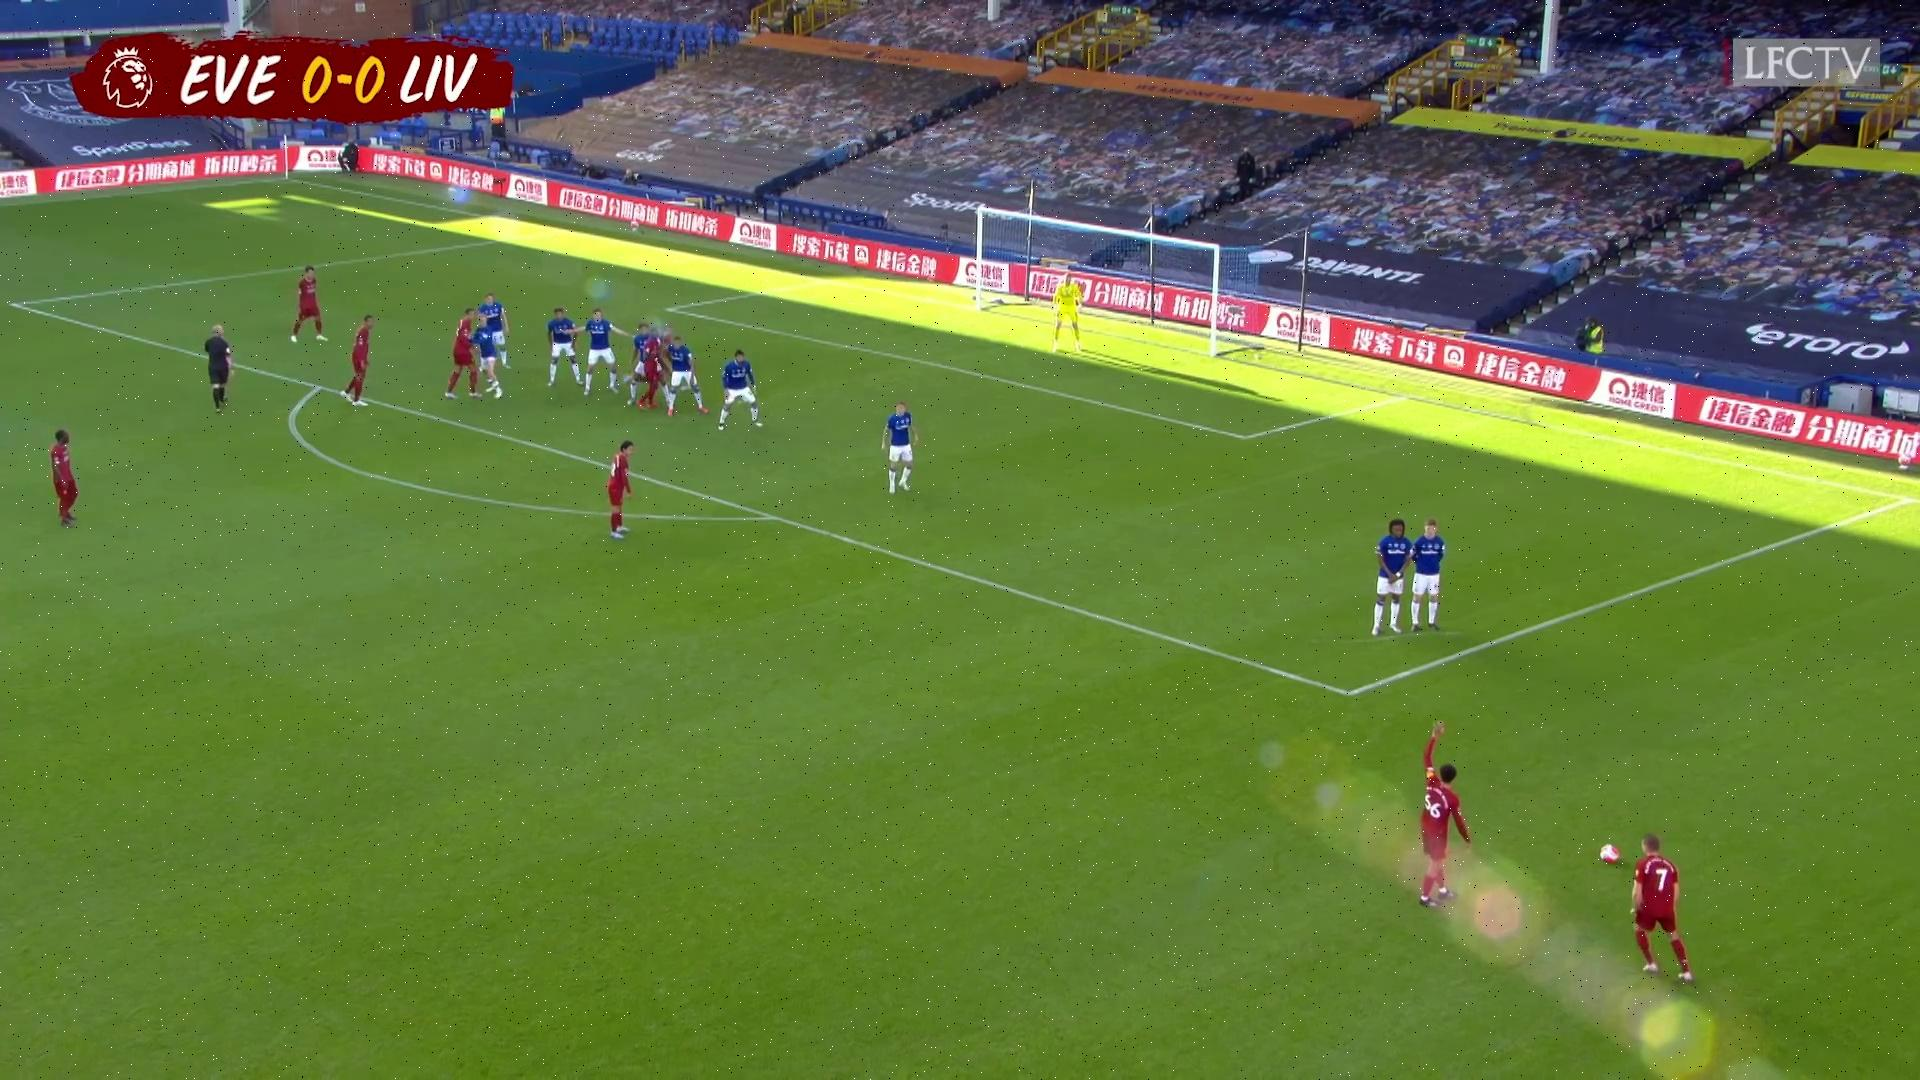ball: (1601, 843, 1621, 865)
